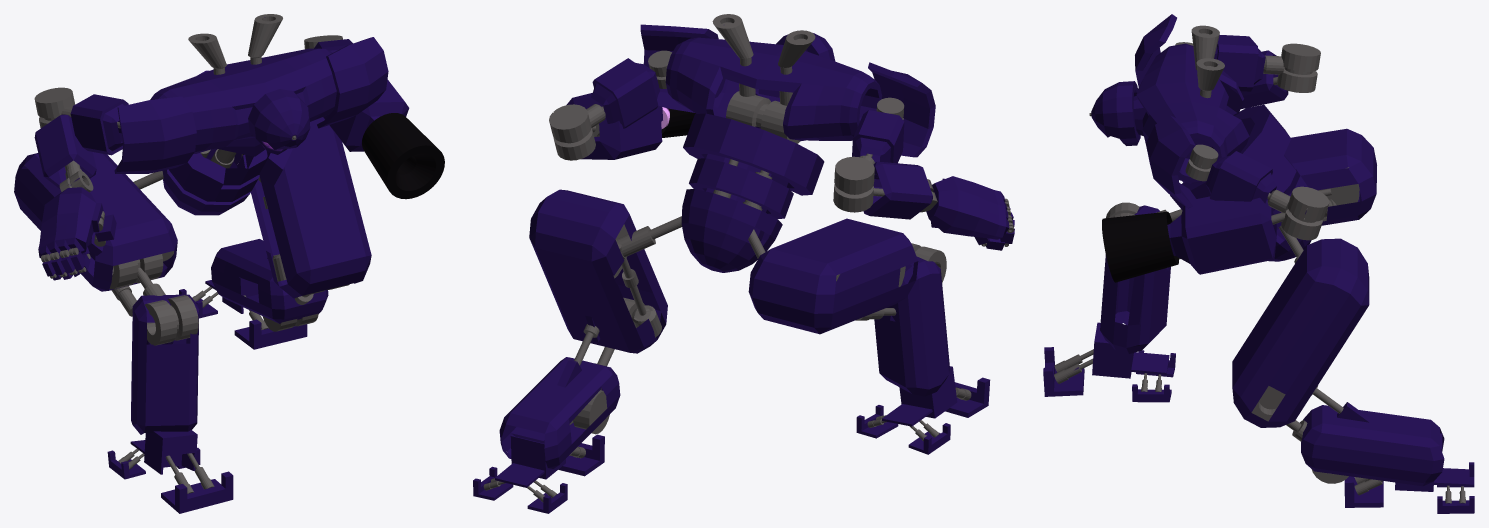
The model's file is BMS4.obj.
3 views of the same model, side by side, from view 1: azimuth 30°, elevation 25°; view 2: azimuth 150°, elevation 25°; view 3: azimuth 270°, elevation 25° (orthographic). The views are drawn at different scales.
Visible parts, largest first — view 1: Cylinder.037_Cylinder.041, Cylinder.004_Cylinder.012, Cylinder.010_Cylinder.009, Cylinder.012_Cylinder.011, Cylinder.006_Cylinder.005, Cylinder.000_Cylinder.003, Cylinder.014, Cylinder.007_Cylinder.006, Cylinder.009_Cylinder.008, Cylinder.008_Cylinder.007, Cylinder.003_Cylinder.002, Cylinder.011_Cylinder.010 (+7 smaller); view 2: Cylinder.037_Cylinder.041, Cylinder.000_Cylinder.003, Cylinder.004_Cylinder.012, Cylinder.010_Cylinder.009, Cylinder.012_Cylinder.011, Cylinder.014, Cylinder.005_Cylinder.004, Cylinder.007_Cylinder.006, Cylinder.009_Cylinder.008, Cylinder.006_Cylinder.005, Cylinder.008_Cylinder.007, Cylinder.019 (+9 smaller); view 3: Cylinder.004_Cylinder.012, Cylinder.037_Cylinder.041, Cylinder.006_Cylinder.005, Cylinder.014, Cylinder.010_Cylinder.009, Cylinder.005_Cylinder.004, Cylinder.012_Cylinder.011, Cylinder.000_Cylinder.003, Cylinder.007_Cylinder.006, Cylinder.003_Cylinder.002, Cylinder.019, Cylinder.020 (+7 smaller).
Boxes of the visible parts, x1,y1,x2,y2 form: Cylinder.037_Cylinder.041: (114, 14, 388, 173); Cylinder.004_Cylinder.012: (251, 117, 371, 298); Cylinder.010_Cylinder.009: (14, 152, 177, 291); Cylinder.012_Cylinder.011: (131, 294, 199, 434); Cylinder.006_Cylinder.005: (323, 79, 444, 199); Cylinder.000_Cylinder.003: (133, 70, 292, 215); Cylinder.014: (211, 239, 328, 323); Cylinder.007_Cylinder.006: (34, 87, 128, 155); Cylinder.009_Cylinder.008: (38, 187, 104, 258); Cylinder.008_Cylinder.007: (34, 114, 96, 192); Cylinder.003_Cylinder.002: (248, 89, 310, 154); Cylinder.011_Cylinder.010: (111, 267, 198, 345); Cylinder.037_Cylinder.041: (640, 14, 935, 157); Cylinder.000_Cylinder.003: (616, 91, 824, 272); Cylinder.004_Cylinder.012: (529, 189, 667, 353); Cylinder.010_Cylinder.009: (748, 218, 918, 334); Cylinder.012_Cylinder.011: (874, 256, 949, 396); Cylinder.014: (499, 357, 620, 468); Cylinder.005_Cylinder.004: (549, 50, 671, 160); Cylinder.007_Cylinder.006: (833, 97, 904, 212); Cylinder.009_Cylinder.008: (926, 176, 1009, 239); Cylinder.006_Cylinder.005: (566, 92, 695, 159); Cylinder.008_Cylinder.007: (863, 161, 937, 219); Cylinder.019: (882, 366, 957, 426); Cylinder.004_Cylinder.012: (1232, 238, 1369, 427); Cylinder.037_Cylinder.041: (1133, 14, 1249, 208); Cylinder.006_Cylinder.005: (1102, 196, 1307, 282); Cylinder.014: (1301, 405, 1444, 486); Cylinder.010_Cylinder.009: (1284, 128, 1376, 225); Cylinder.005_Cylinder.004: (1185, 144, 1329, 240); Cylinder.012_Cylinder.011: (1100, 205, 1170, 353); Cylinder.000_Cylinder.003: (1170, 104, 1336, 263); Cylinder.007_Cylinder.006: (1175, 35, 1320, 92); Cylinder.003_Cylinder.002: (1089, 81, 1140, 145); Cylinder.019: (1092, 322, 1169, 378); Cylinder.020: (1043, 347, 1093, 396).
Bounding box in the file's own units: 12.89 × 12.64 × 12.53.
1 material, 1 textured.
